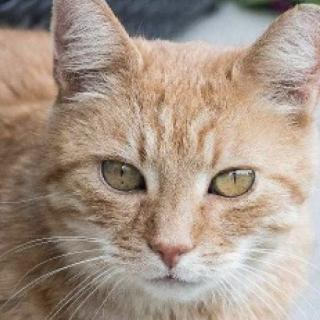cat: (42, 0, 320, 318)
nose: (144, 193, 198, 273)
